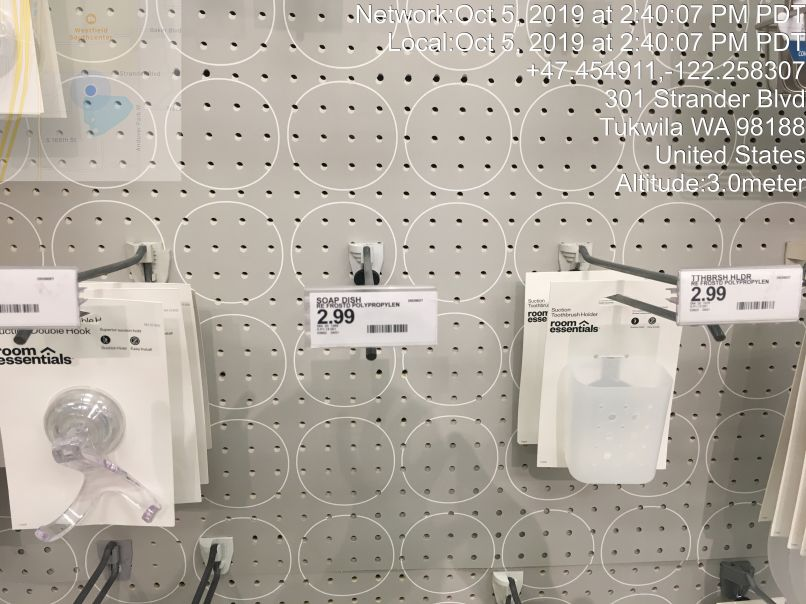Label: (300, 284, 447, 353), (675, 266, 806, 329)
Location: (598, 86, 806, 170)
Time: (347, 3, 806, 59)
Tthbrsh Hldr: (526, 283, 692, 495)
Void: (271, 321, 466, 561)
